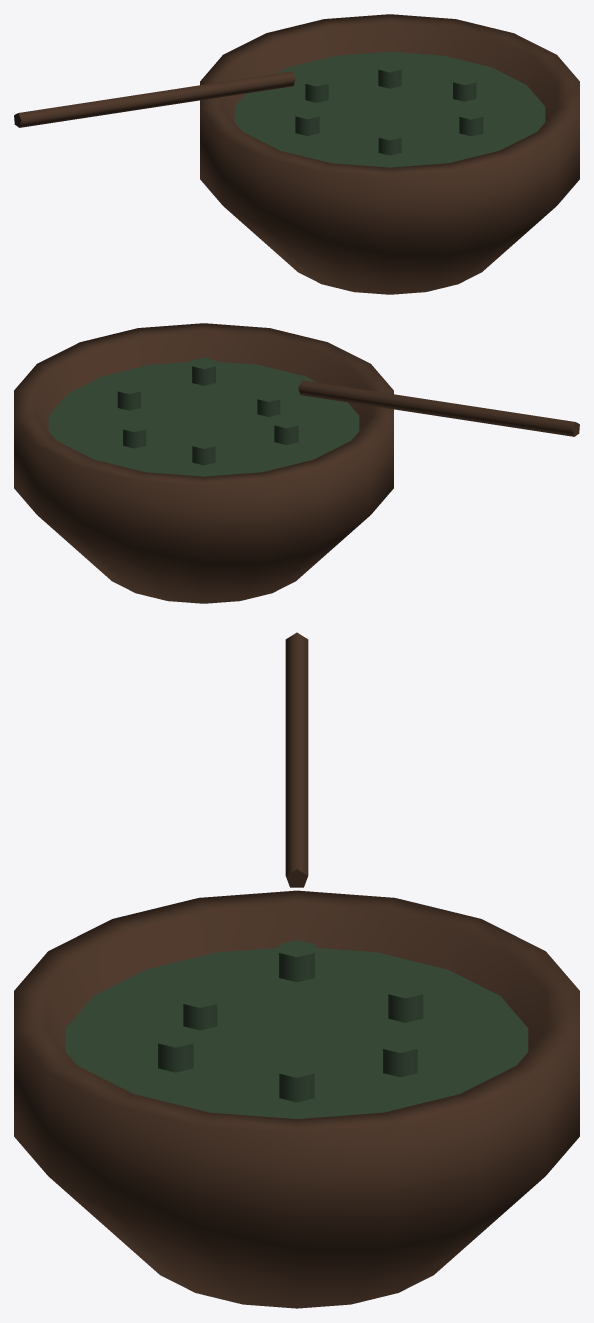
The model's file is slime_natto.obj.
The picture shows the model from 3 angles, top to bottom: view 1: azimuth 30°, elevation 25°; view 2: azimuth 150°, elevation 25°; view 3: azimuth 270°, elevation 25°; orthographic projection. The views are drawn at different scales.
Parts seen in each view (by area): view 1: slime_natto; view 2: slime_natto; view 3: slime_natto.
Part boxes in pixels (x1,y1,x2,y2): slime_natto: (14, 14, 579, 294); slime_natto: (14, 323, 579, 603); slime_natto: (14, 632, 579, 1308).
Bounding box in the file's own units: 2.75 × 1.11 × 1.67.
